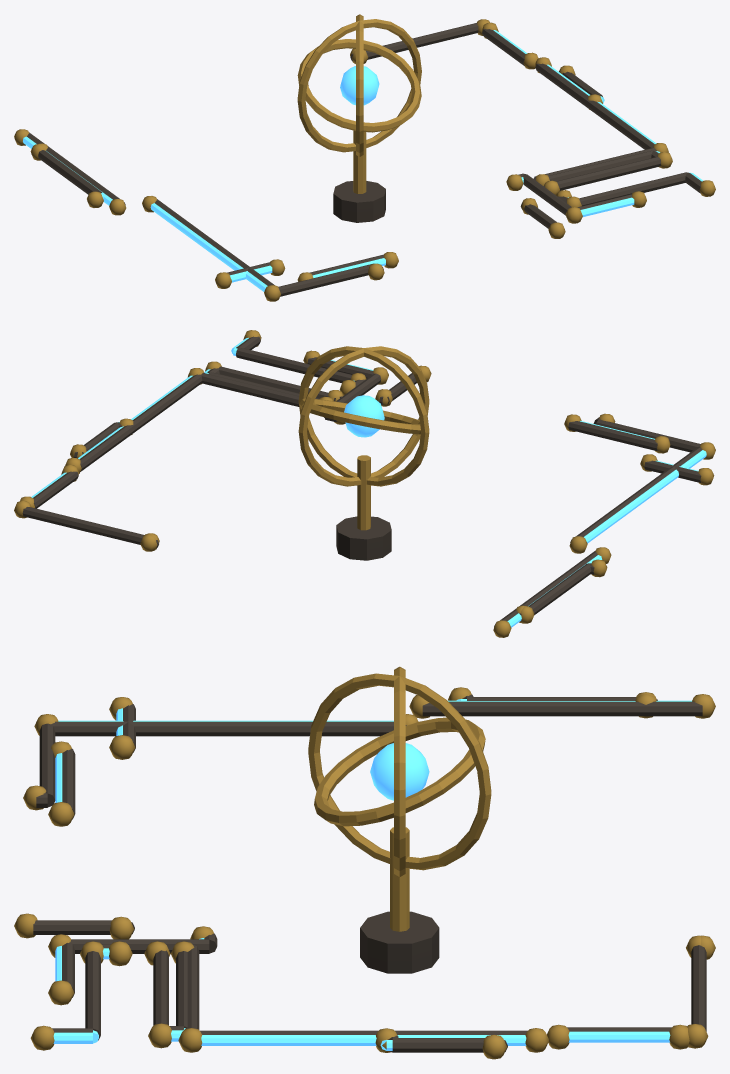
The model's file is creaturium-dress.glb.
3 renders of one model, top to bottom at view 1: azimuth 30°, elevation 25°; view 2: azimuth 150°, elevation 25°; view 3: azimuth 270°, elevation 25°, orthographic. The views are drawn at different scales.
Visible parts, largest first — view 1: creaturium-dress; view 2: creaturium-dress; view 3: creaturium-dress.
Part boxes in pixels (x1,y1,x2,y2): creaturium-dress: [14, 14, 715, 301]; creaturium-dress: [14, 330, 715, 637]; creaturium-dress: [14, 666, 715, 1059].
Bounding box in the file's own units: 2.82 × 1.03 × 2.34.
